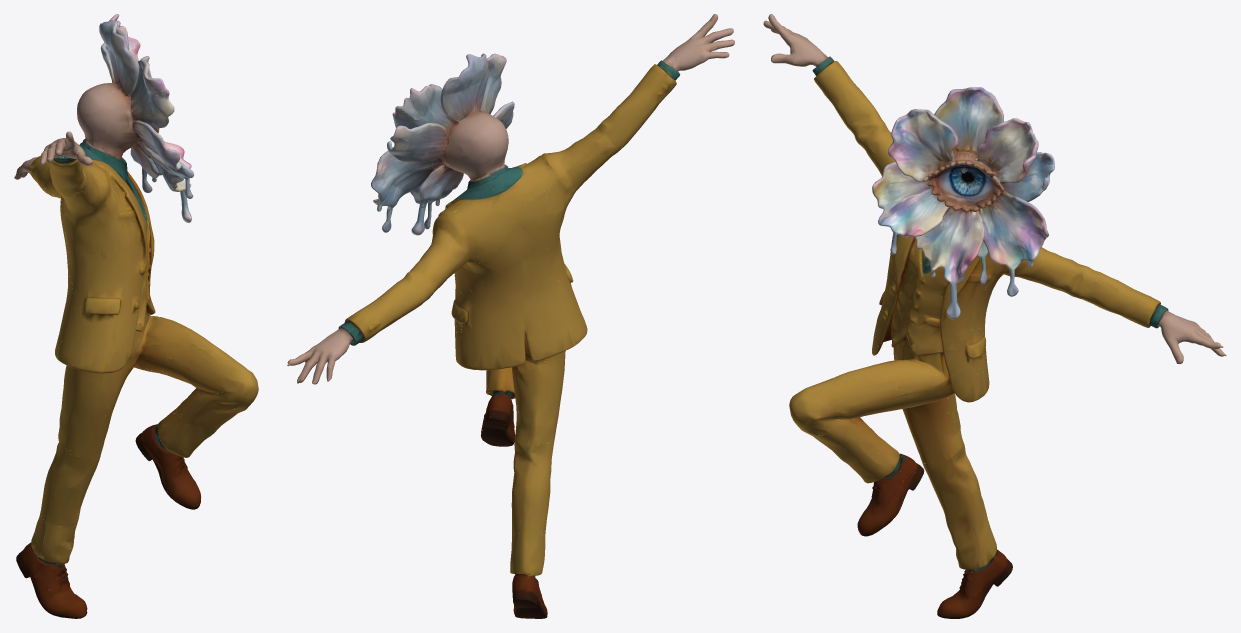
The model's file is dancer.glb.
The picture shows the model from 3 angles, left to right: view 1: azimuth 30°, elevation 25°; view 2: azimuth 150°, elevation 25°; view 3: azimuth 270°, elevation 25°; orthographic projection. The views are drawn at different scales.
Parts seen in each view (by area): view 1: tripo_node_e7b69b92-1b23-4fea-ae50-27bacfa6c3b1; view 2: tripo_node_e7b69b92-1b23-4fea-ae50-27bacfa6c3b1; view 3: tripo_node_e7b69b92-1b23-4fea-ae50-27bacfa6c3b1.
Part boxes in pixels (x1,y1,x2,y2): tripo_node_e7b69b92-1b23-4fea-ae50-27bacfa6c3b1: (14,14,258,618); tripo_node_e7b69b92-1b23-4fea-ae50-27bacfa6c3b1: (287,14,734,618); tripo_node_e7b69b92-1b23-4fea-ae50-27bacfa6c3b1: (763,14,1226,618).
Bounding box in the file's own units: 0.437 × 1 × 0.7551.
1 material, 1 textured.
